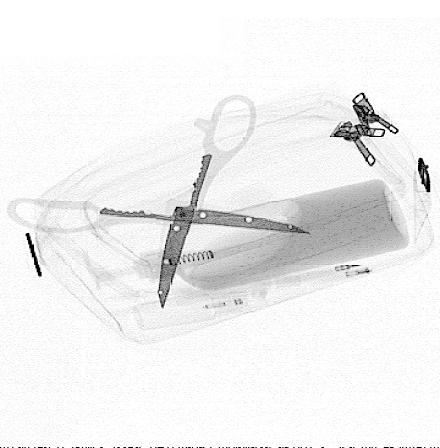Scissors: (4, 94, 313, 310)
